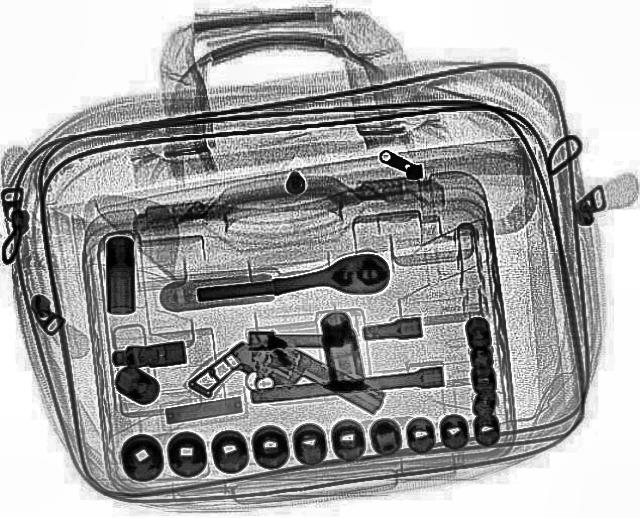Gun: (184, 319, 390, 463)
